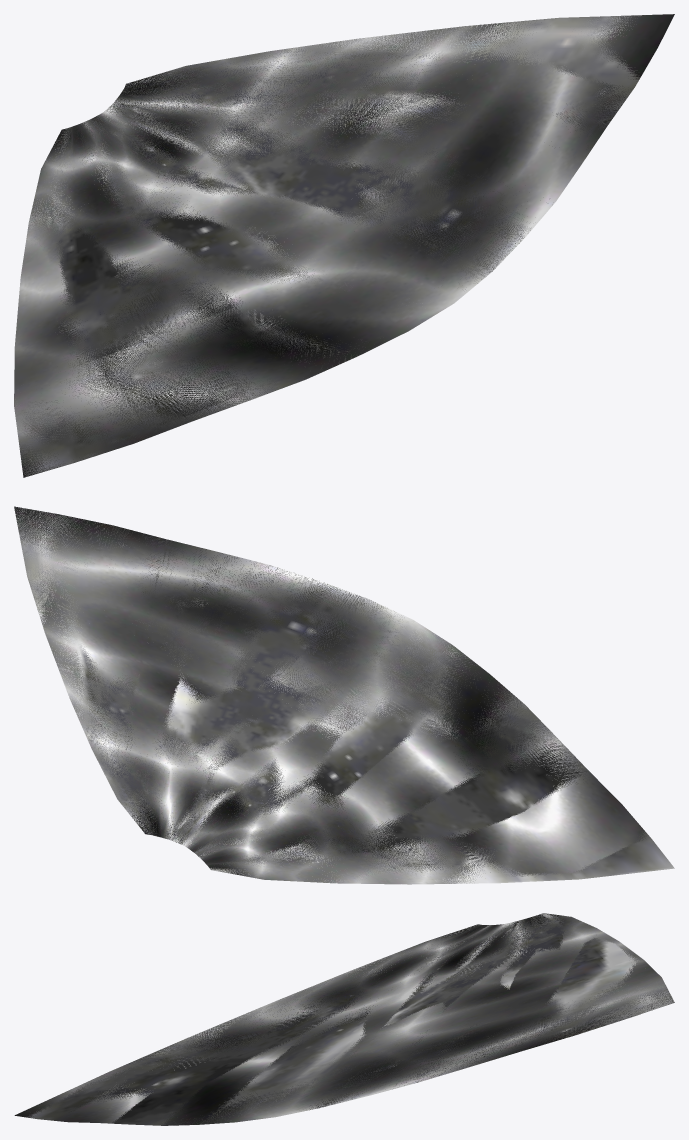
File: effect_axiuluo_atk05_atk_dongzuo (1).fbx
3 renders of one model, top to bottom at view 1: azimuth 30°, elevation 25°; view 2: azimuth 150°, elevation 25°; view 3: azimuth 330°, elevation 25°, orthographic. The views are drawn at different scales.
Visible parts, largest first — view 1: effect_axiuluo_atk05_Plane001, effect_axiuluo_atk05_Plane001 (1); view 2: effect_axiuluo_atk05_Plane001, effect_axiuluo_atk05_Plane001 (1); view 3: effect_axiuluo_atk05_Plane001, effect_axiuluo_atk05_Plane001 (1).
Boxes of the visible parts, x1,y1,x2,y2 form: effect_axiuluo_atk05_Plane001: [14, 14, 674, 477]; effect_axiuluo_atk05_Plane001 (1): [15, 15, 639, 476]; effect_axiuluo_atk05_Plane001: [14, 506, 646, 884]; effect_axiuluo_atk05_Plane001 (1): [15, 507, 674, 883]; effect_axiuluo_atk05_Plane001: [14, 913, 674, 1125]; effect_axiuluo_atk05_Plane001 (1): [27, 913, 674, 1125].
Size of the model in its own units: 5.61 by 2.04 by 4.39.
